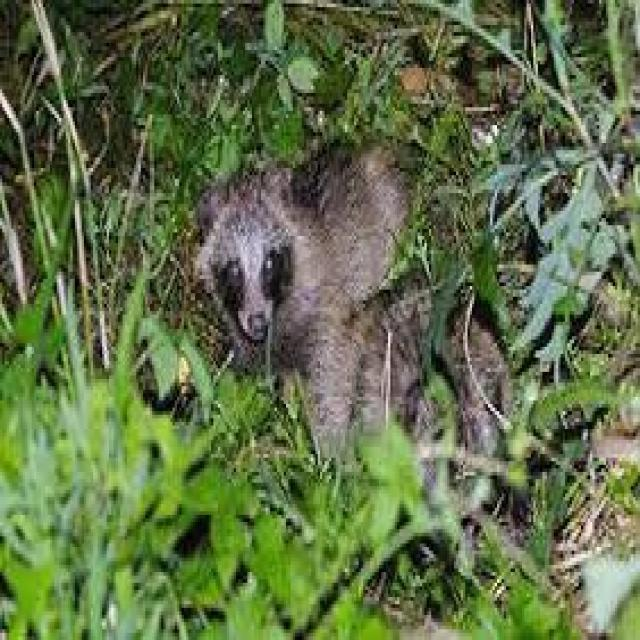racoon: (188, 156, 508, 517)
